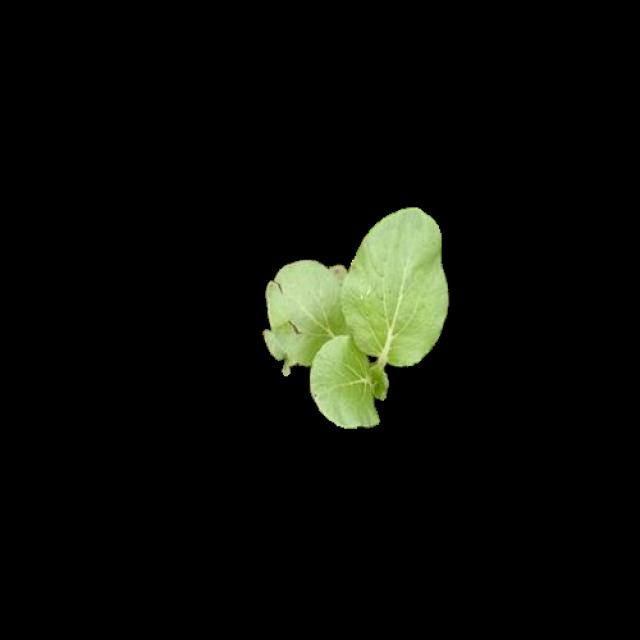not-mature: (261, 209, 451, 431)
unhealthy: (261, 260, 351, 366)
